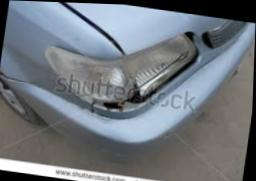Light: (93, 28, 201, 110)
